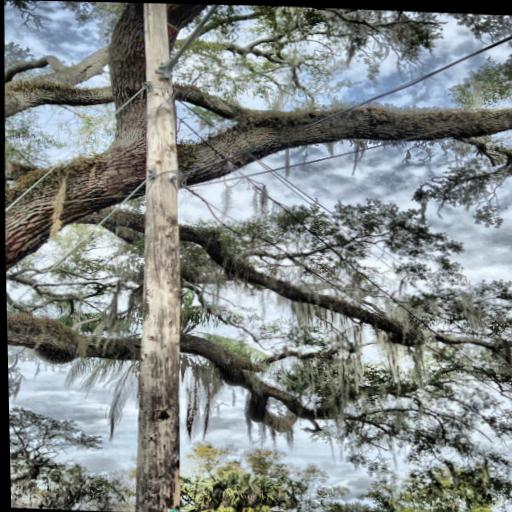pole: (109, 2, 197, 512)
street light: (152, 3, 288, 88)
